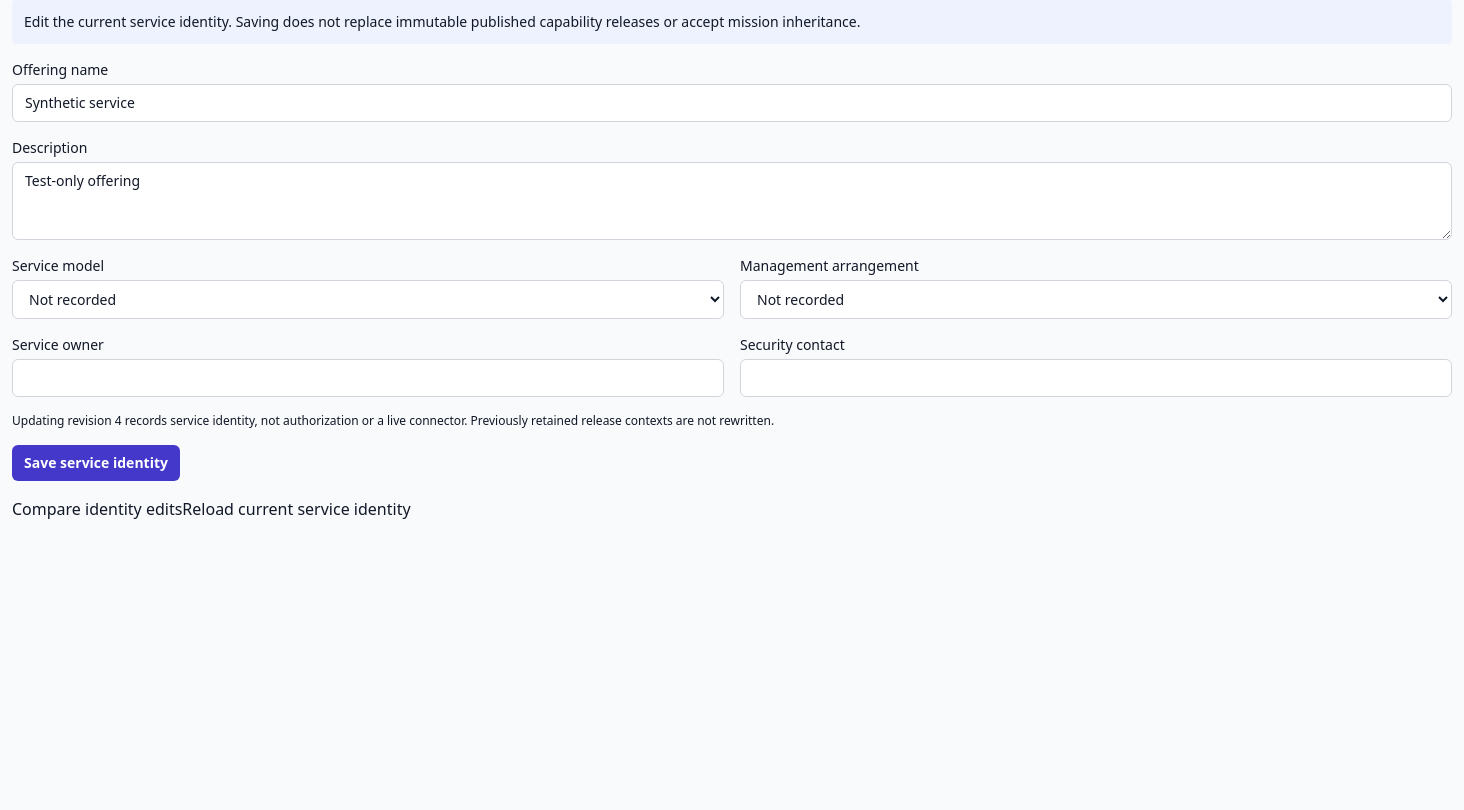
Test: compares recorded and missing metadata without inferred service duties: recorded=false
The image size is (1464, 810).
Select "Platform service" in the dropdown labelled "Service model" at [368, 300], box [12,280,724,319]
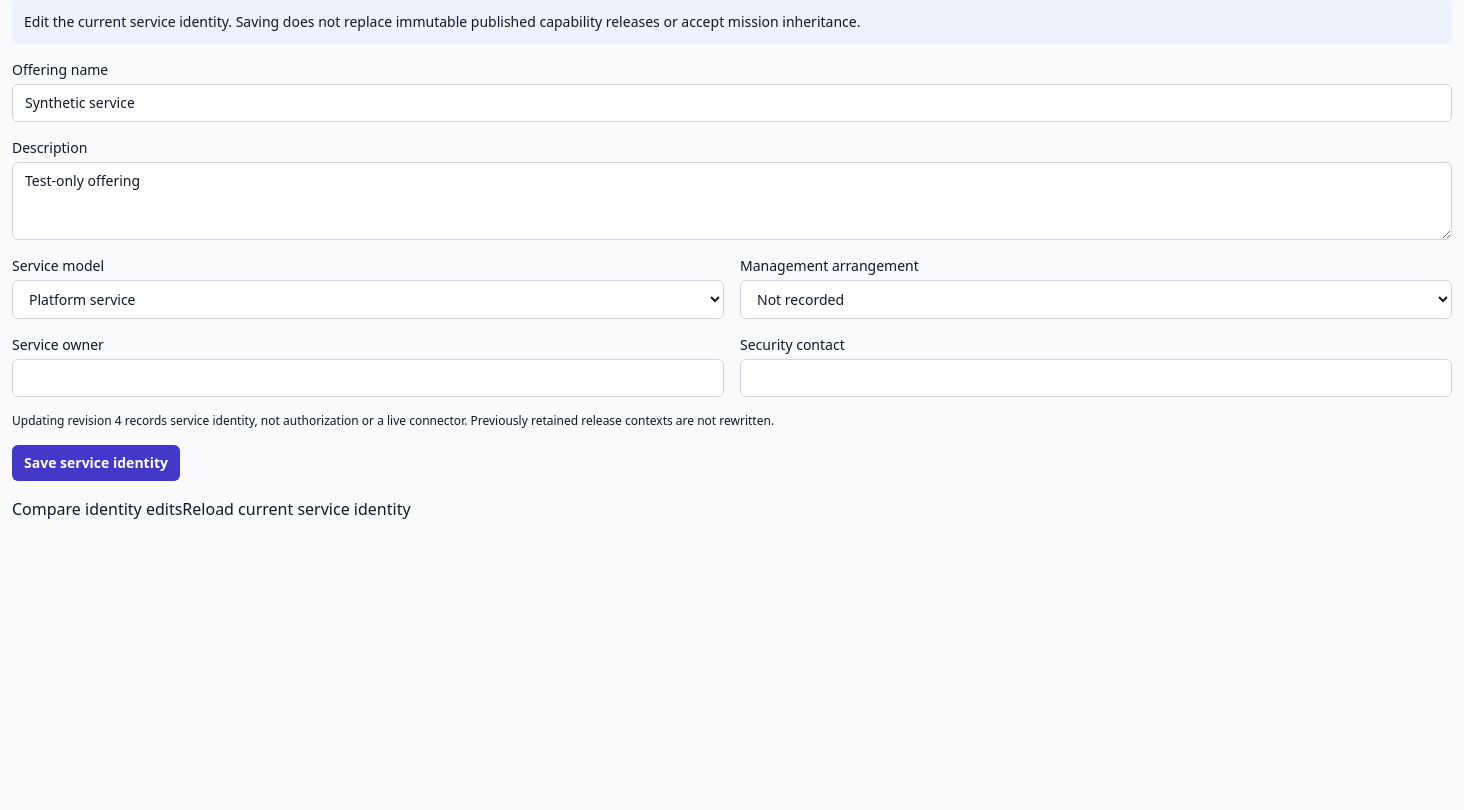
Select "Provider managed" in the dropdown labelled "Management arrangement" at [1096, 300], box [740,280,1452,319]
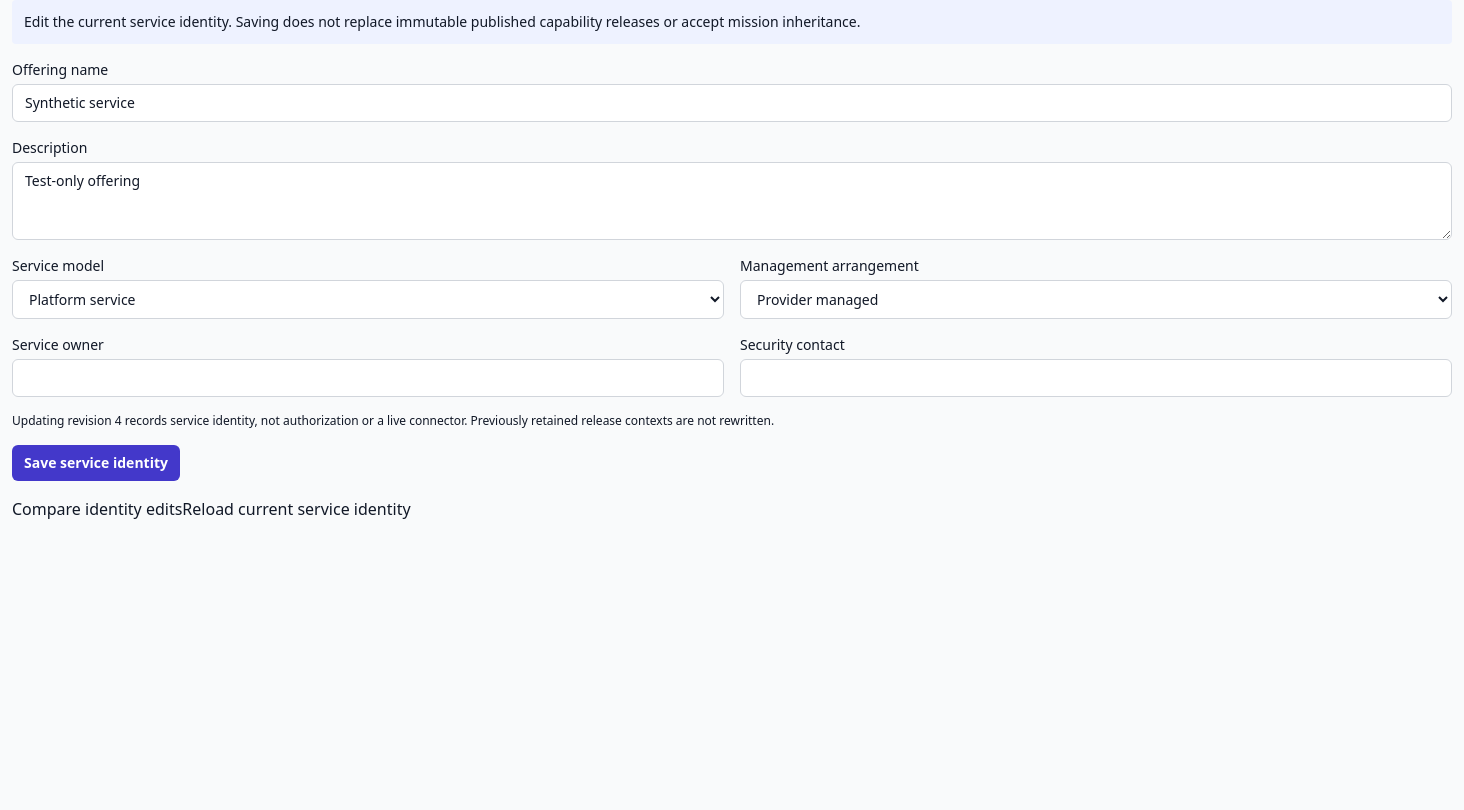
Type "Proposed owner" into the field labelled "Service owner" at [368, 378], box [12,359,724,397]
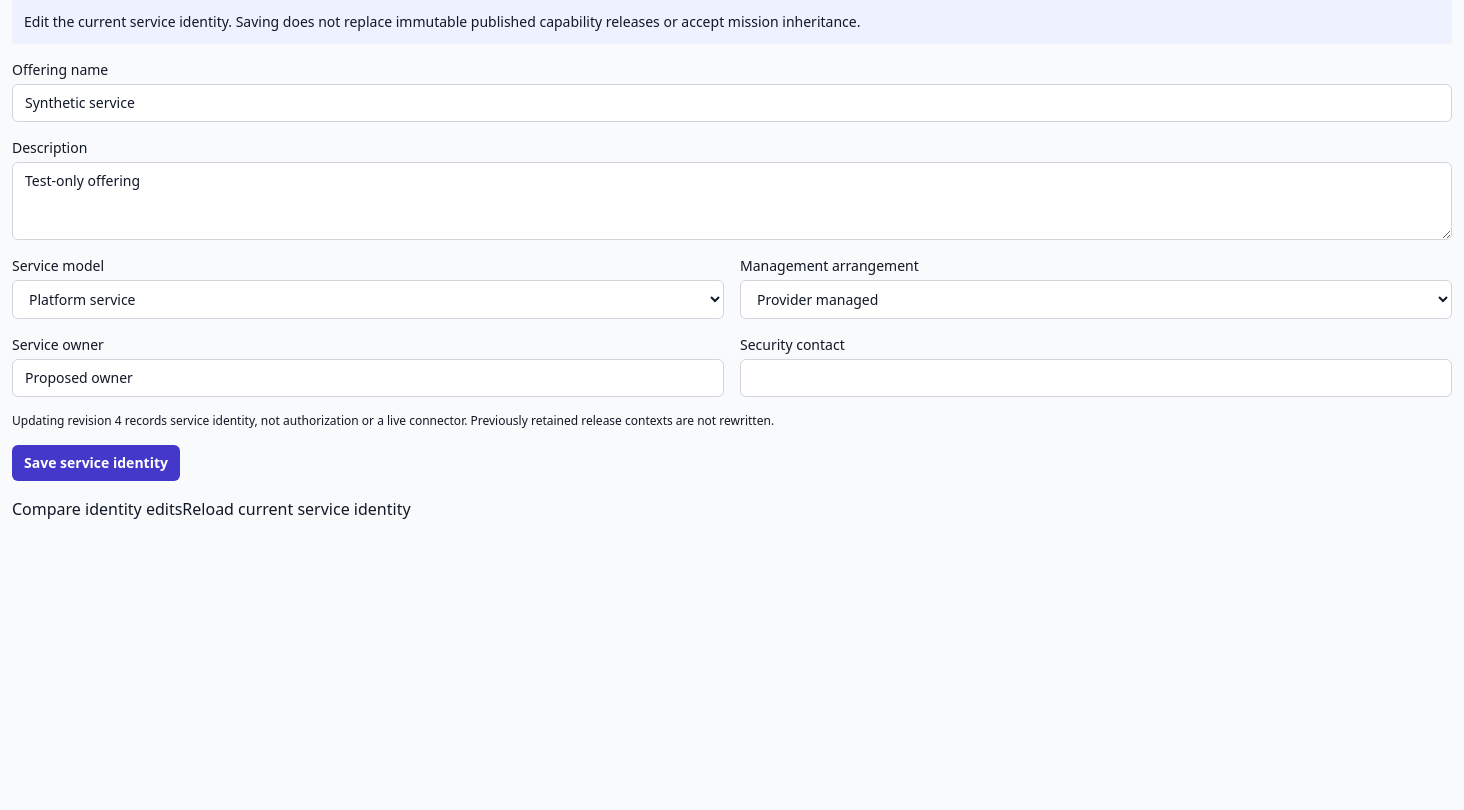
Type "Proposed contact" into the field labelled "Security contact" at [1096, 378], box [740,359,1452,397]
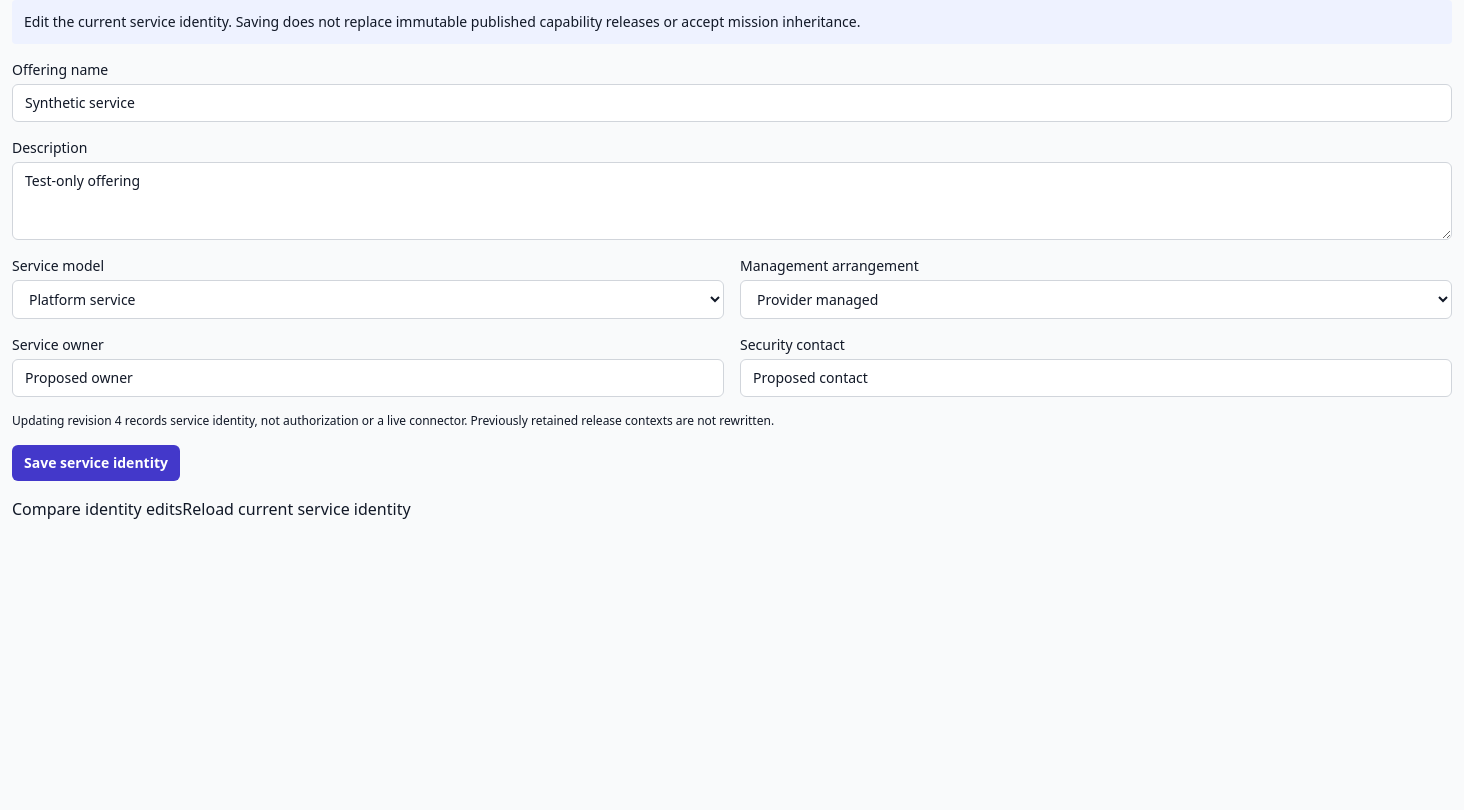
Replace the text in the text box labelled "Description" with "Proposed description" at [732, 201], box [12,162,1452,240]
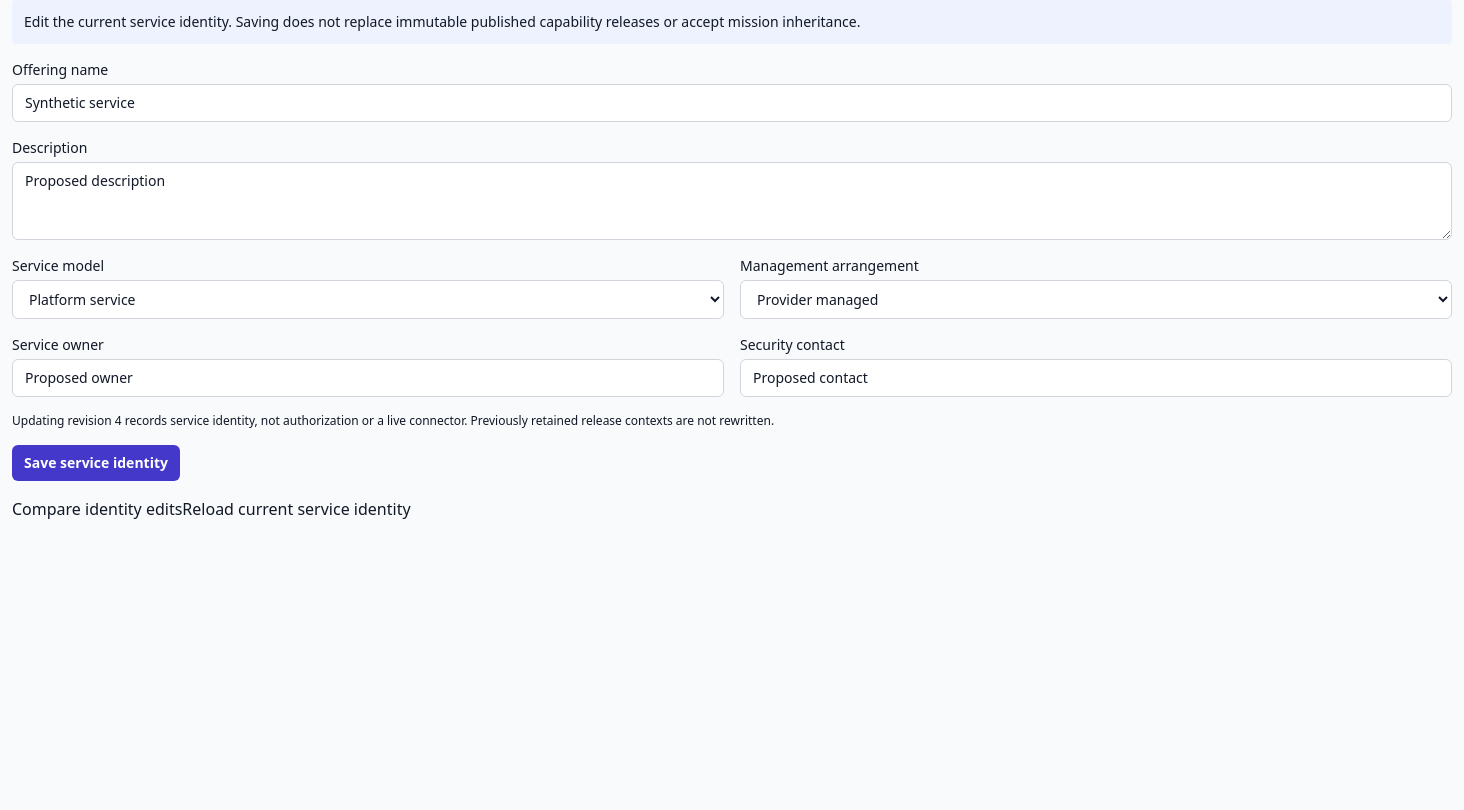
Click the button "Compare identity edits" at [97, 509], box [12,497,182,521]
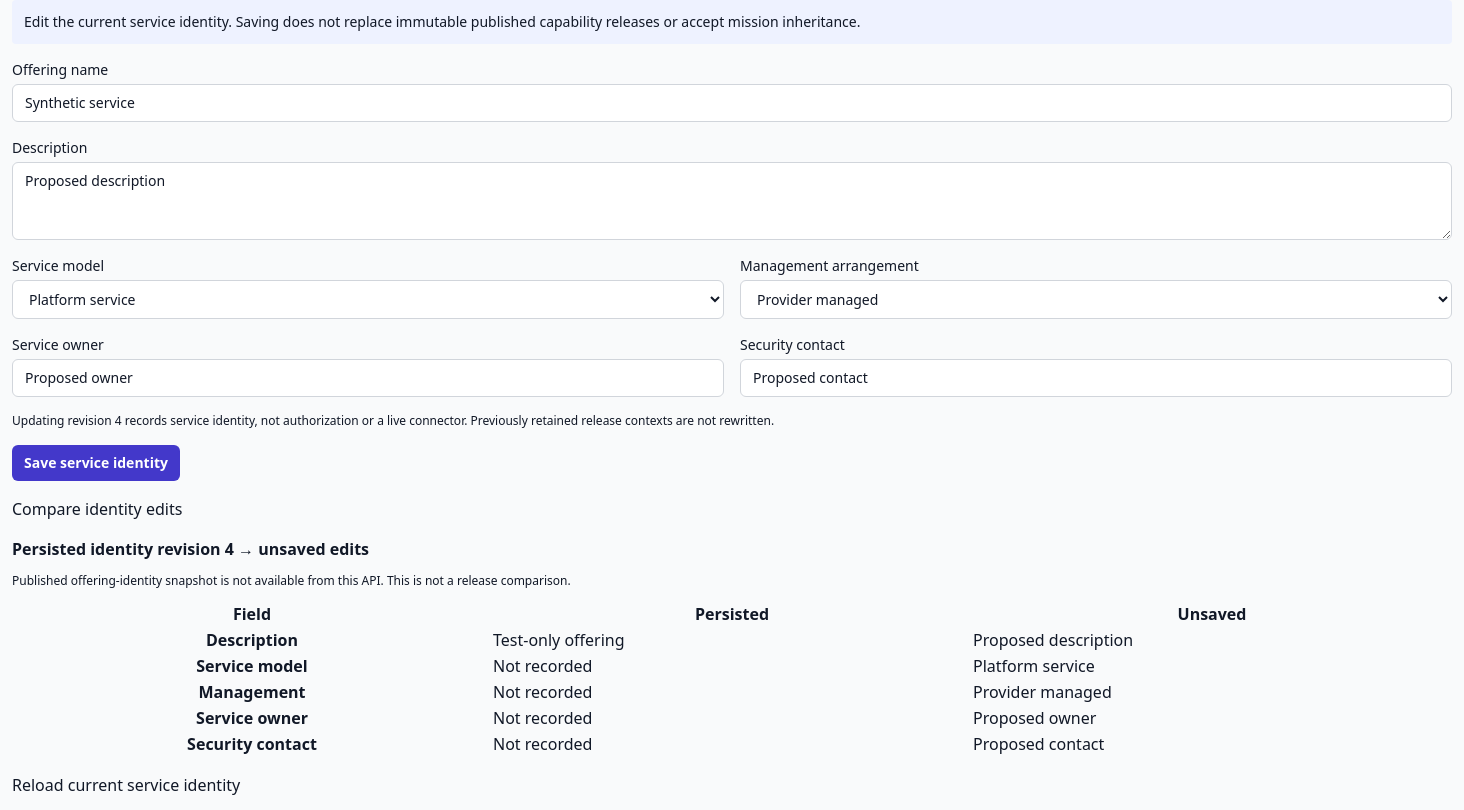
Now the table named "Identity changes" shows "Not recorded", box [493,655,592,677]
